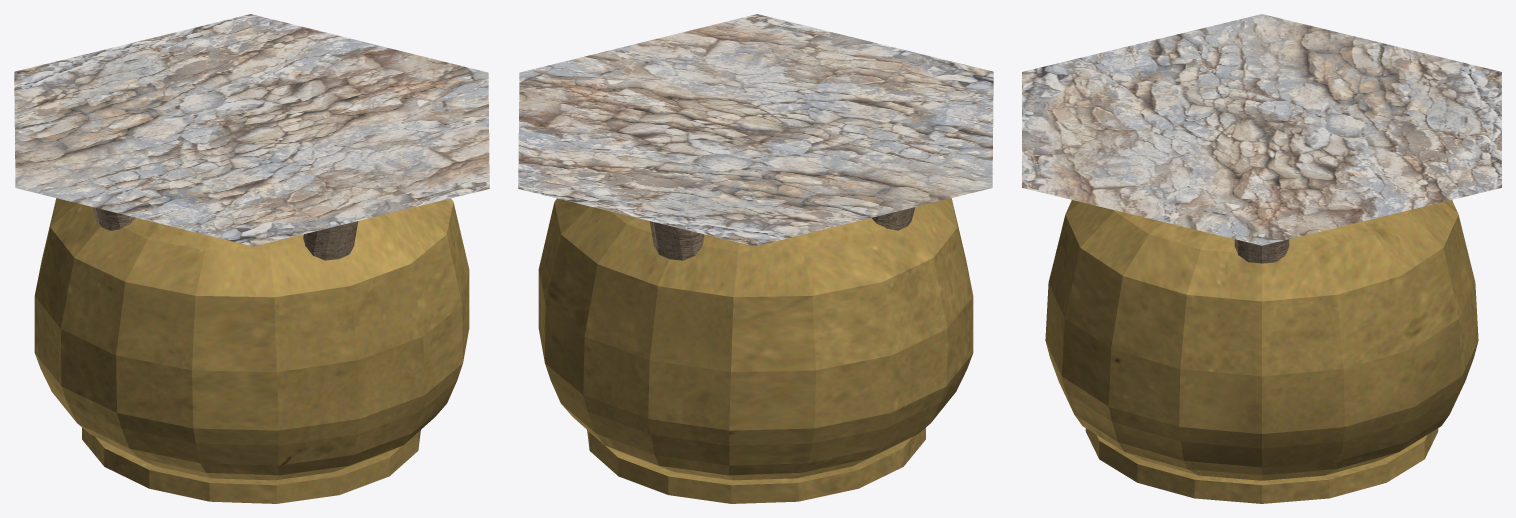
Rendered from fungus_HQ_GEO_01.fbx.
3 renders of one model, left to right at view 1: azimuth 30°, elevation 25°; view 2: azimuth 150°, elevation 25°; view 3: azimuth 270°, elevation 25°, orthographic.
Visible parts, largest first — view 1: fungus_HQ_GEO_01; view 2: fungus_HQ_GEO_01; view 3: fungus_HQ_GEO_01.
Boxes of the visible parts, <box> form: fungus_HQ_GEO_01: <box>14,14,489,503</box>; fungus_HQ_GEO_01: <box>518,14,993,503</box>; fungus_HQ_GEO_01: <box>1022,14,1501,503</box>.
Size of the model in its own units: 2 by 1.24 by 1.75.
Materials: 4 (4 with a texture image).
